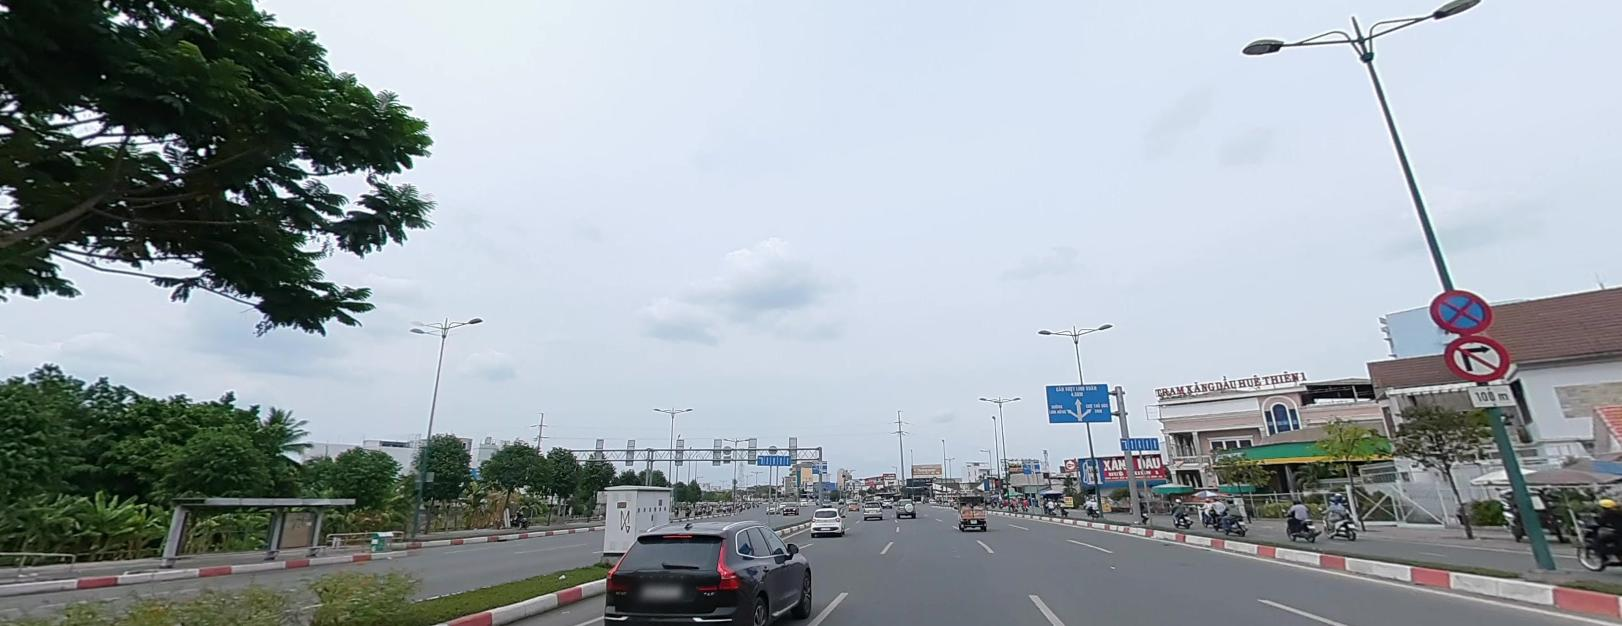Cam con lai: (1063, 457, 1076, 469)
Cam dung va do: (1428, 285, 1493, 334)
Cam re: (1444, 335, 1508, 380)
